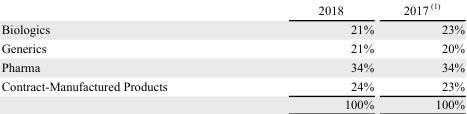table: (0, 0, 464, 111)
table column: (0, 0, 242, 111), (242, 0, 387, 111), (387, 0, 464, 111)
table column header: (0, 0, 464, 18)
table row: (0, 18, 464, 37), (0, 37, 464, 56), (0, 56, 464, 75), (0, 75, 464, 94), (0, 0, 464, 18), (0, 94, 464, 111)
